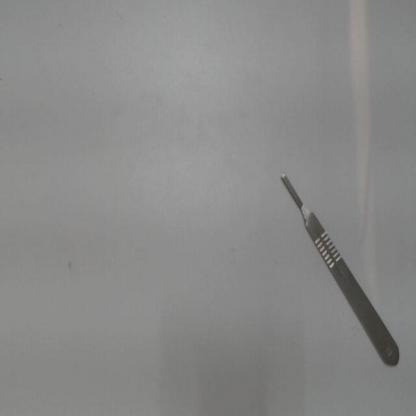No.4 BP Handle: (262, 157, 412, 380)
